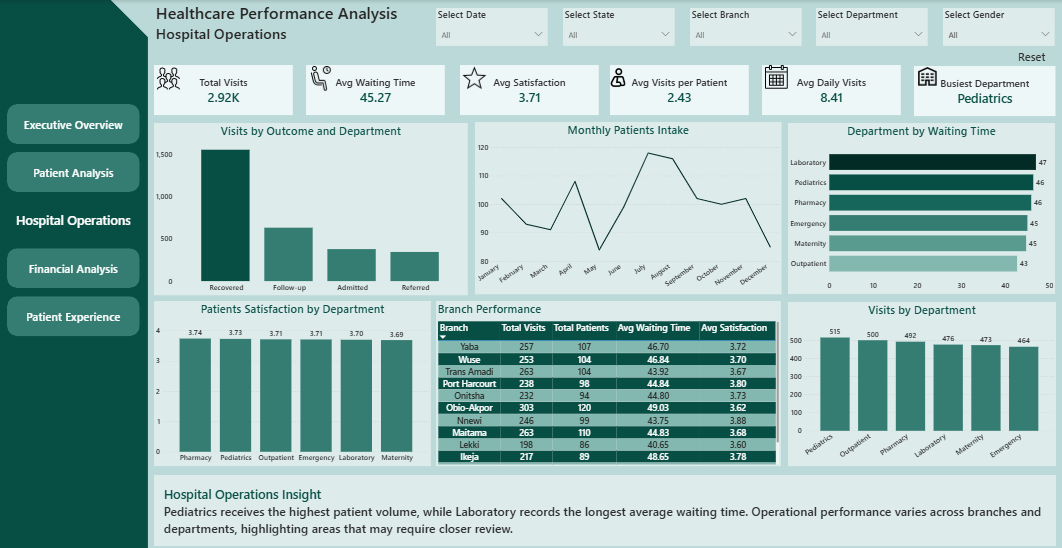

What the dashboard file says about the page in this screenshot:
{"tool":"powerbi","page":{"name":"Hospital Operations","canvas":[3140,1625],"ordinal":2},"visuals":[{"type":"cardVisual","fields":{"Data":["Date_Table.Total Visits"]},"box":[455,193.2,410,148],"z":0},{"type":"cardVisual","fields":{"Data":["Date_Table.Avg Waiting Time"]},"box":[904.1,193.2,410,148],"z":1000},{"type":"cardVisual","fields":{"Data":["Date_Table.Avg Satisfaction"]},"box":[1359.1,193,410,148.4],"z":2000},{"type":"shape","box":[0,0,437.3,1625],"z":3000},{"type":"clusteredColumnChart","title":"Visits by Outcome and Department","fields":{"Category":["Patient_Visits.Outcome"],"Y":["Date_Table.Total Visits"]},"box":[454.5,363.6,927.3,509.1],"z":4000},{"type":"clusteredColumnChart","title":"Patients Satisfaction by Department","fields":{"Y":["Date_Table.Avg Satisfaction"],"Category":["Patient_Visits.Department"]},"box":[455,889.3,818.4,487.5],"z":5000},{"type":"tableEx","title":"Branch Performance","fields":{"Values":["Patient_Visits.Branch","Date_Table.Total Visits","Date_Table.Total Patients","Date_Table.Avg Waiting Time","Date_Table.Avg Satisfaction"]},"box":[1288.2,889.3,1019.3,487.5],"z":6000},{"type":"lineChart","title":"Monthly Patients Intake","fields":{"Category":["Date_Table.Month"],"Y":["Date_Table.Total Patients"]},"box":[1402,360.6,906.1,509.1],"z":7000},{"type":"barChart","title":"Department by Waiting Time","fields":{"Y":["Date_Table.Avg Waiting Time"],"Category":["Patient_Visits.Department"]},"box":[2328.2,363.4,788.9,505.2],"z":8000},{"type":"textbox","box":[455,0,783.9,161.3],"z":9000},{"type":"slicer","title":"Select Date","fields":{"Values":["Date_Table.Date"]},"box":[1288.2,23.5,330,112.3],"z":10000},{"type":"slicer","title":"Select State","fields":{"Values":["Patient_Visits.State"]},"box":[1662.8,23.5,330,112.3],"z":11000},{"type":"slicer","title":"Select Branch","fields":{"Values":["Patient_Visits.Branch"]},"box":[2037.4,23.5,330,112.3],"z":12000},{"type":"slicer","title":"Select Department","fields":{"Values":["Patient_Visits.Department"]},"box":[2412,23.6,330,112.3],"z":13000},{"type":"slicer","title":"Select Gender","fields":{"Values":["Patient_Visits.Gender"]},"box":[2786.6,23.5,330,112.3],"z":14000},{"type":"cardVisual","fields":{"Data":["Date_Table.Avg Visits per Patient"]},"box":[1802.3,193.2,410,148],"z":15000},{"type":"cardVisual","fields":{"Data":["Date_Table.Avg Daily Visits"]},"box":[2251.4,193.2,410,148],"z":16000},{"type":"cardVisual","fields":{"Data":["Date_Table.Busiest Department"]},"box":[2700,193.9,418.2,148.5],"z":17000},{"type":"image","box":[455,195,85,73.9],"z":18000},{"type":"columnChart","title":"Visits by Department","fields":{"Y":["Date_Table.Total Visits"],"Category":["Patient_Visits.Department"]},"box":[2328.2,892.3,791.8,484.5],"z":19000},{"type":"cardVisual","fields":{"Data":["Date_Table.Operations Insight"]},"box":[455,1403.4,2665,210],"z":20000},{"type":"image","box":[904.1,195,85,73],"z":21000},{"type":"image","box":[1359.1,195,85,73],"z":22000},{"type":"image","box":[1784.5,192,85,73.9],"z":23000},{"type":"image","box":[2251.4,192,85,73],"z":24000},{"type":"image","box":[2697.5,189.1,85,73],"z":25000},{"type":"pageNavigator","box":[20.7,307.3,393,688.4],"z":26000},{"type":"actionButton","box":[2981.8,139.4,135,53],"z":27000}]}

Visuals, with their boxes on the page's 3140x1625 design canvas (x1, y1, x2, y2). These are canvas units, not pixel positions in the 1062x548 screenshot, which may show the page scaled, cropped or inside an application window:
cardVisual - Date_Table.Total Visits: BBox(455, 193, 865, 341)
cardVisual - Date_Table.Avg Waiting Time: BBox(904, 193, 1314, 341)
cardVisual - Date_Table.Avg Satisfaction: BBox(1359, 193, 1769, 341)
shape: BBox(0, 0, 437, 1625)
"Visits by Outcome and Department" clusteredColumnChart: BBox(454, 364, 1382, 873)
"Patients Satisfaction by Department" clusteredColumnChart: BBox(455, 889, 1273, 1377)
"Branch Performance" tableEx: BBox(1288, 889, 2308, 1377)
"Monthly Patients Intake" lineChart: BBox(1402, 361, 2308, 870)
"Department by Waiting Time" barChart: BBox(2328, 363, 3117, 869)
textbox: BBox(455, 0, 1239, 161)
"Select Date" slicer: BBox(1288, 24, 1618, 136)
"Select State" slicer: BBox(1663, 24, 1993, 136)
"Select Branch" slicer: BBox(2037, 24, 2367, 136)
"Select Department" slicer: BBox(2412, 24, 2742, 136)
"Select Gender" slicer: BBox(2787, 24, 3117, 136)
cardVisual - Date_Table.Avg Visits per Patient: BBox(1802, 193, 2212, 341)
cardVisual - Date_Table.Avg Daily Visits: BBox(2251, 193, 2661, 341)
cardVisual - Date_Table.Busiest Department: BBox(2700, 194, 3118, 342)
image: BBox(455, 195, 540, 269)
"Visits by Department" columnChart: BBox(2328, 892, 3120, 1377)
cardVisual - Date_Table.Operations Insight: BBox(455, 1403, 3120, 1613)
image: BBox(904, 195, 989, 268)
image: BBox(1359, 195, 1444, 268)
image: BBox(1784, 192, 1870, 266)
image: BBox(2251, 192, 2336, 265)
image: BBox(2698, 189, 2782, 262)
pageNavigator: BBox(21, 307, 414, 996)
actionButton: BBox(2982, 139, 3117, 192)
